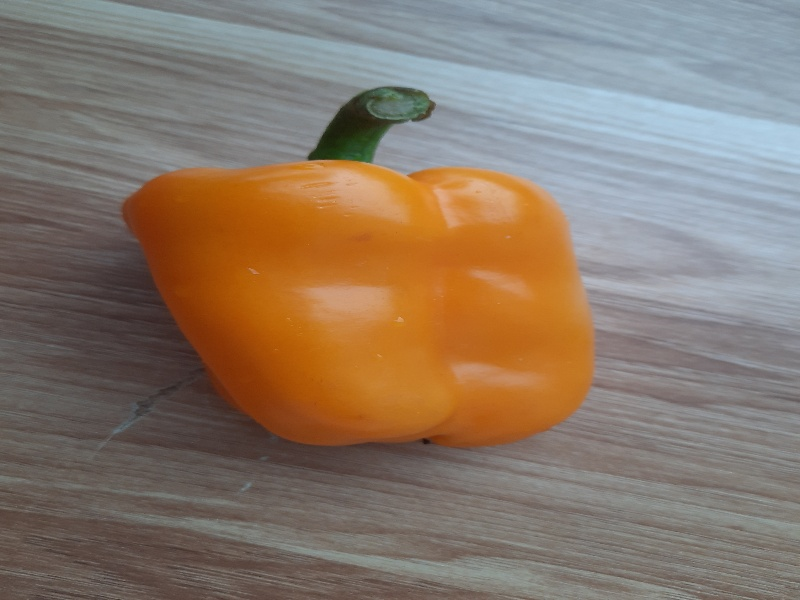vege: (105, 68, 610, 478)
